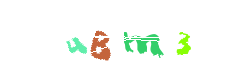3: (144, 0, 224, 80)
4: (60, 0, 140, 80)
B: (84, 0, 164, 80)
M: (85, 0, 165, 80)
